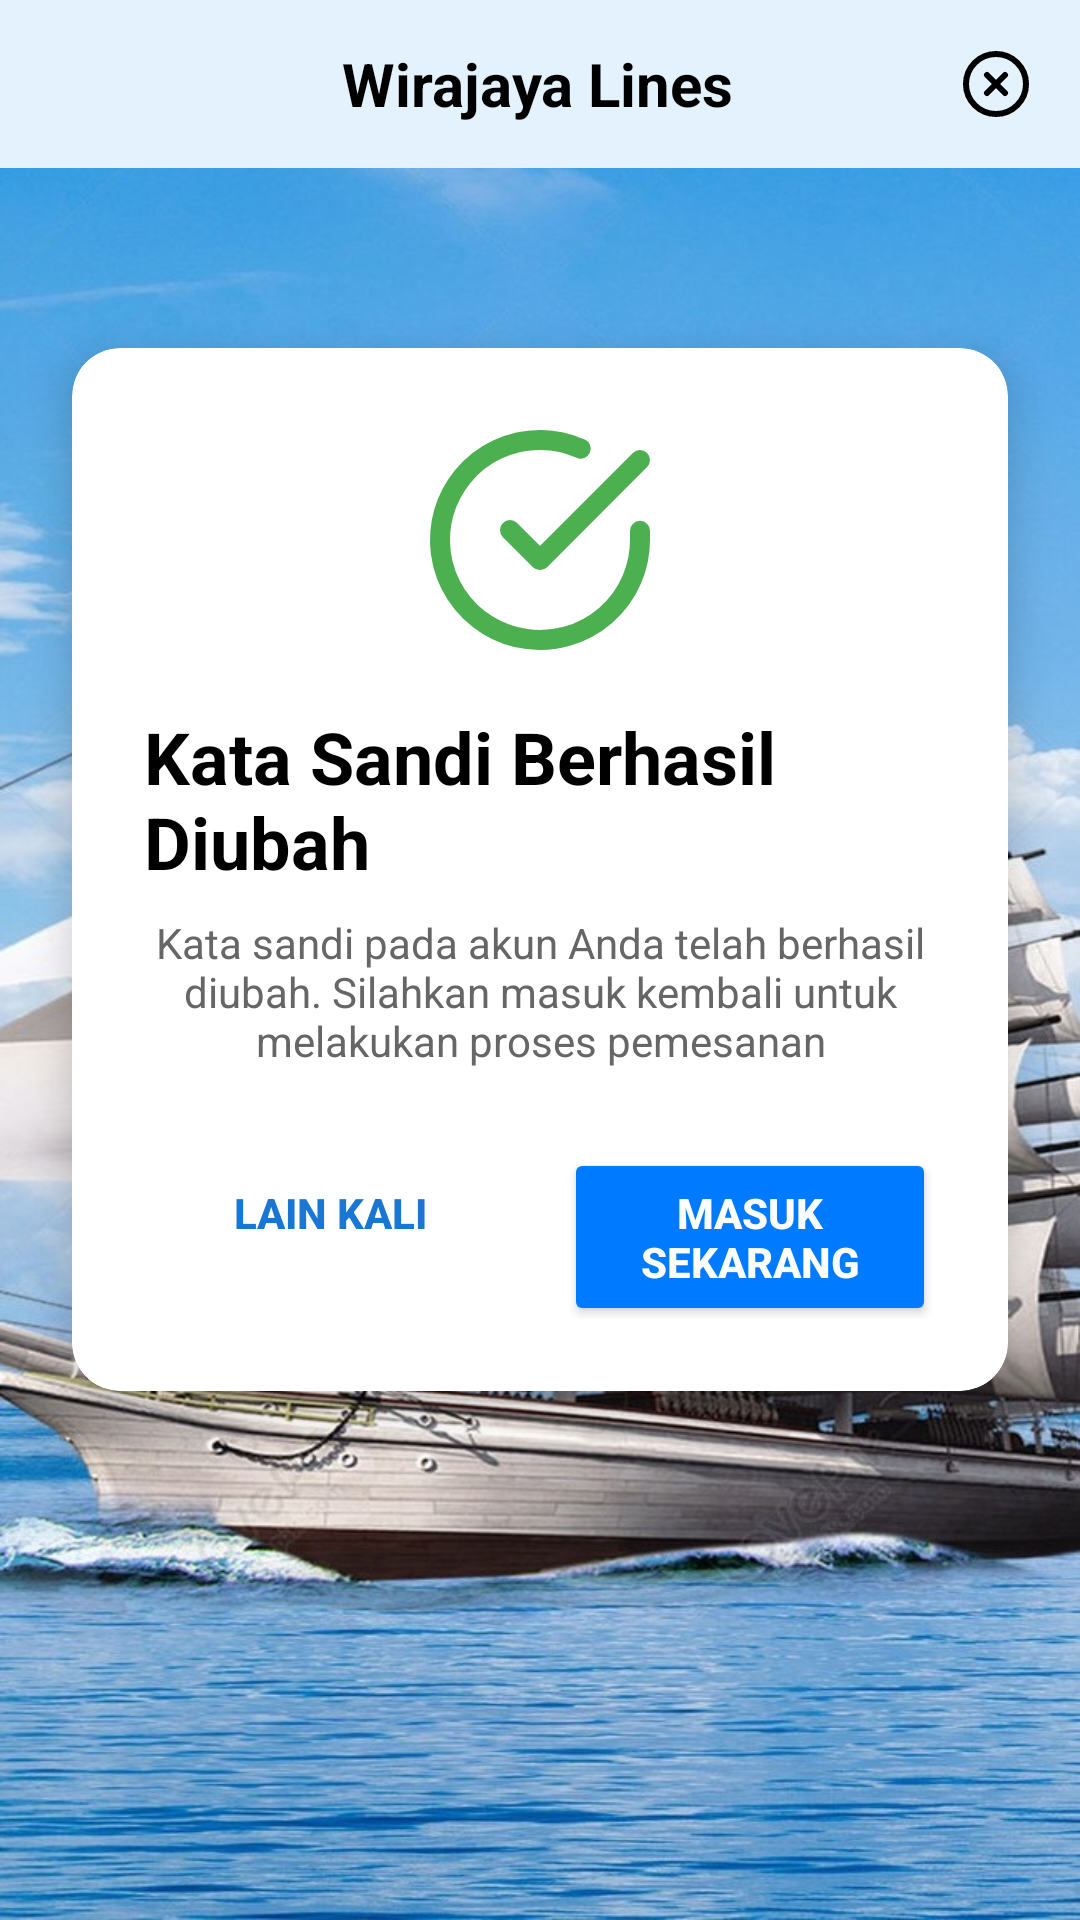

Where to tap for icons on this 1080px×1920px app screen, as point (x, y):
Close Button: point (996, 84)
Success Icon: point (540, 540)
